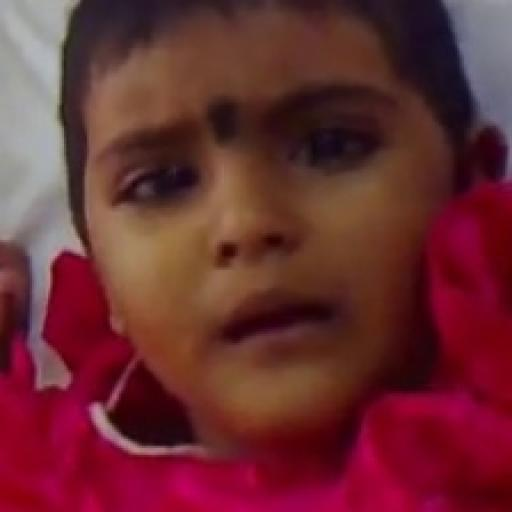Autism: (92, 39, 484, 462)
